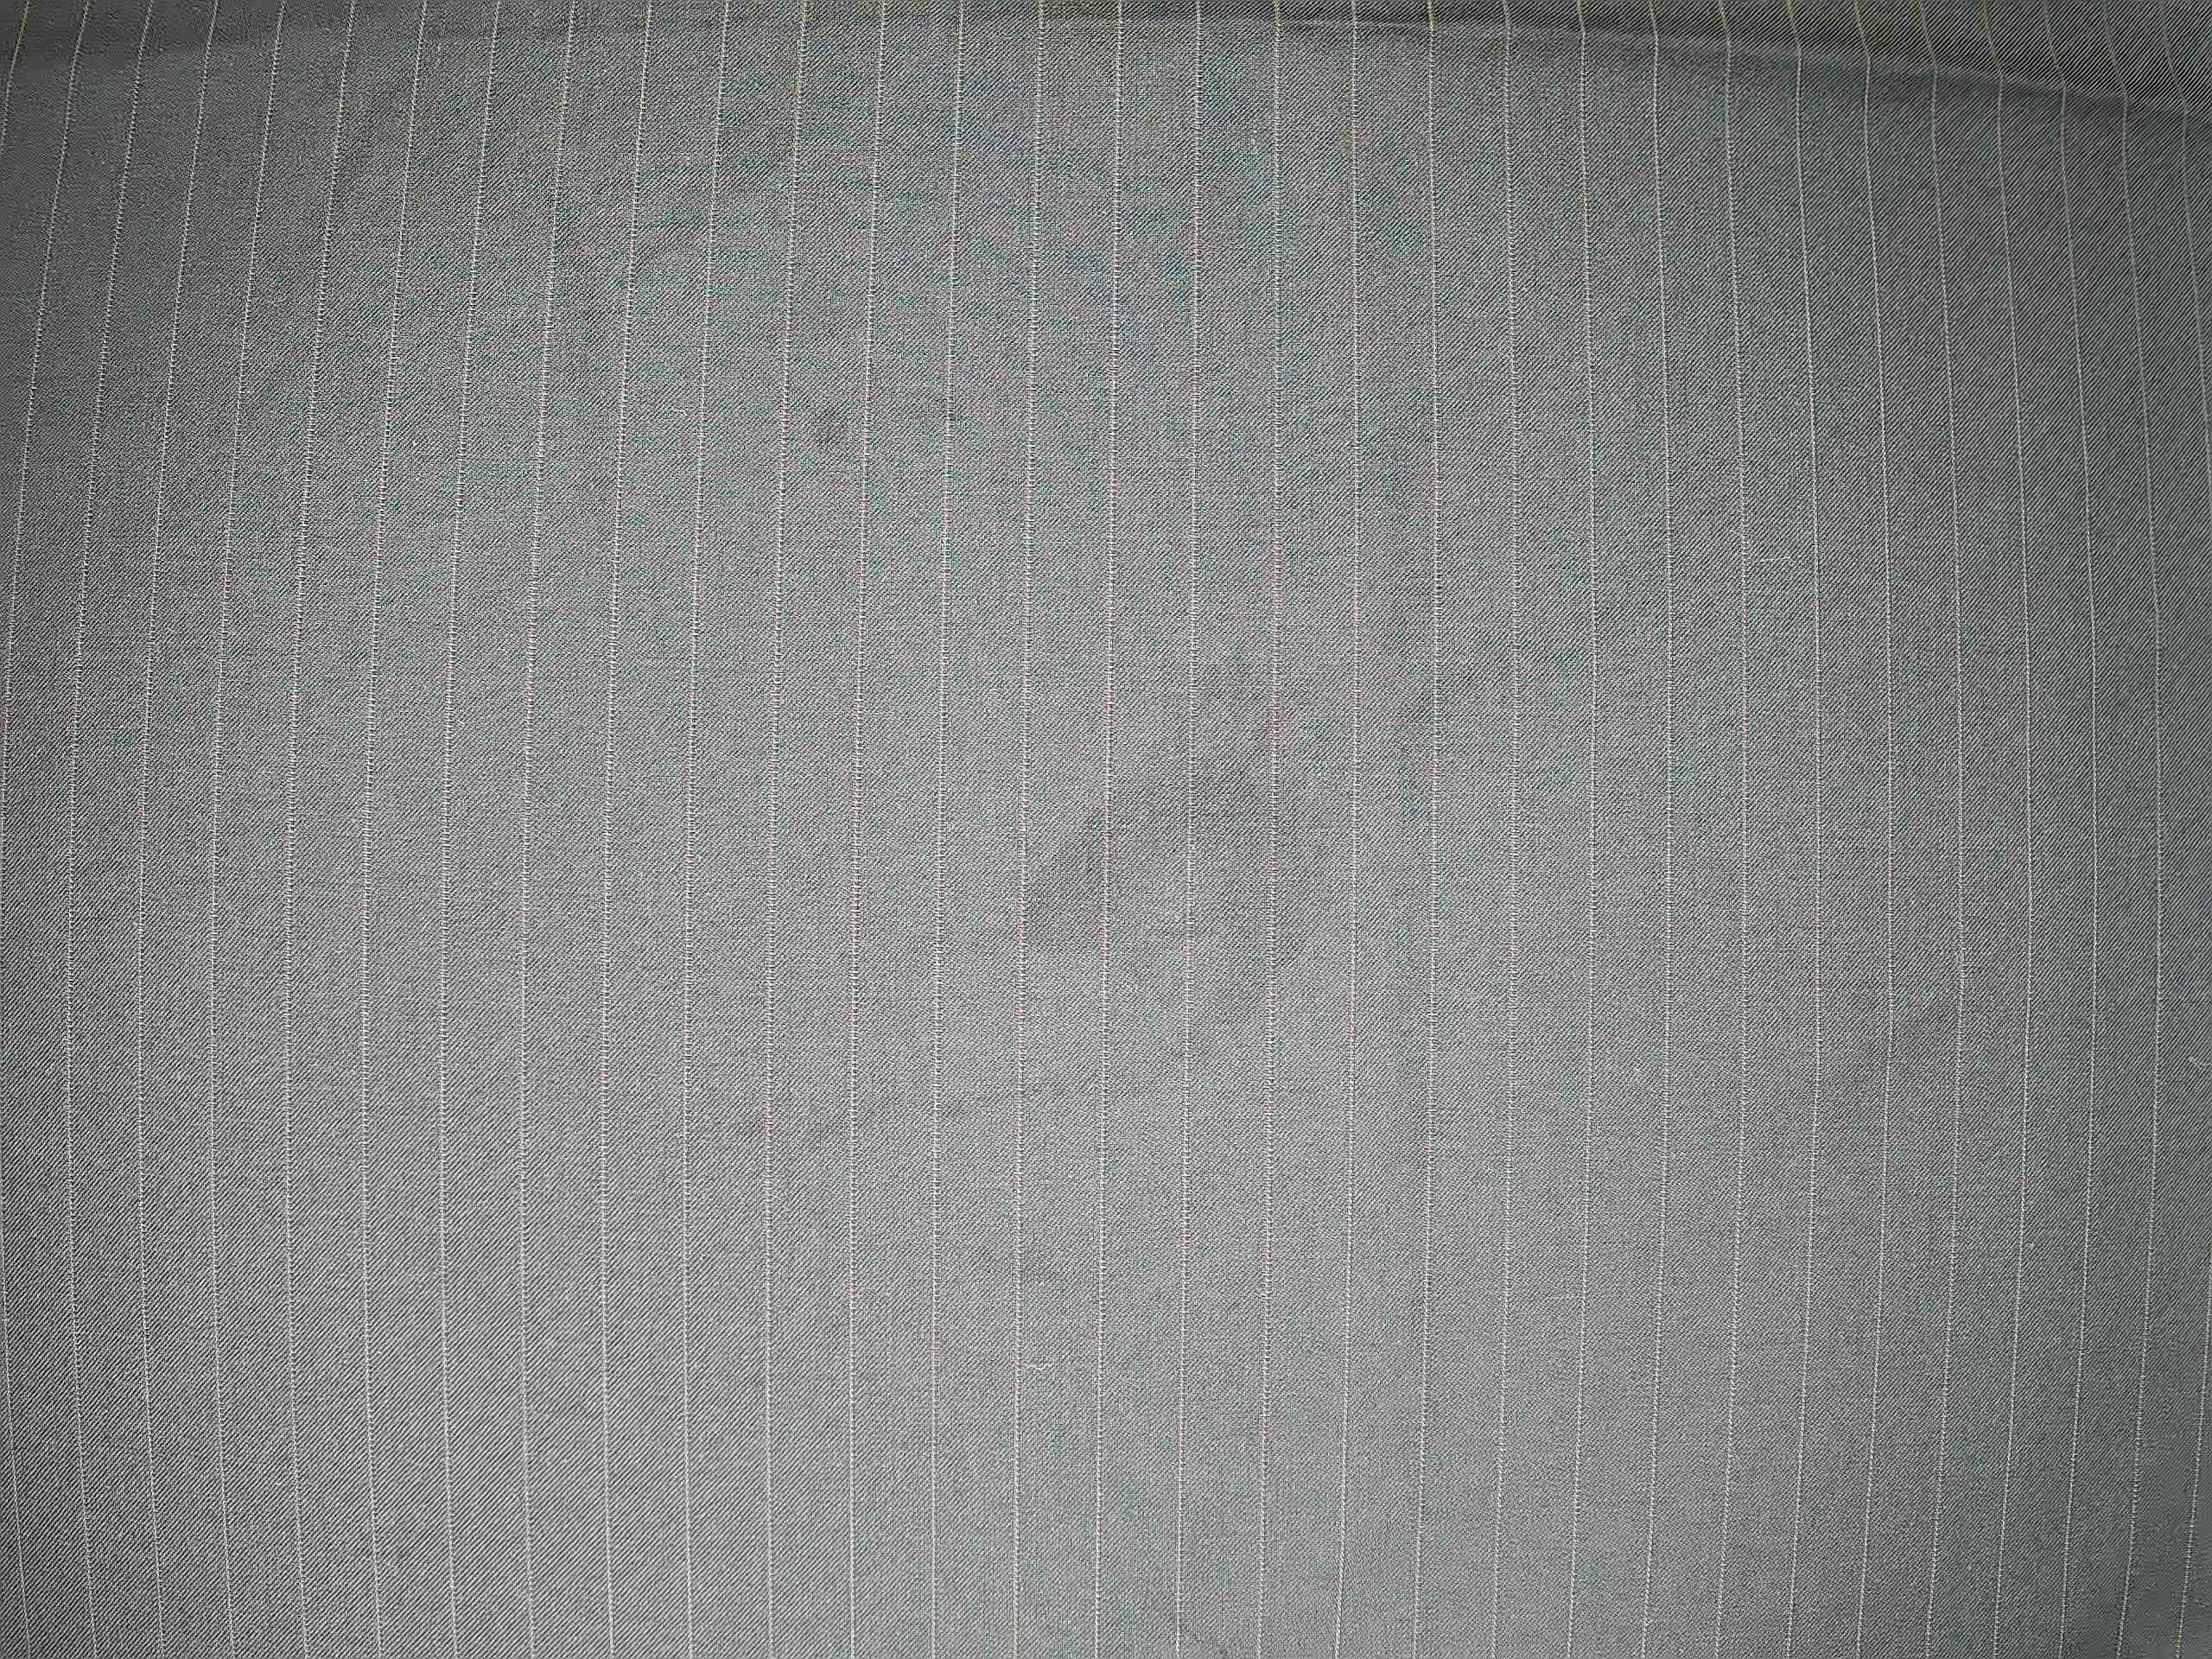others: (793, 369, 867, 472), (915, 377, 978, 445)
stains: (962, 702, 1381, 1100)
